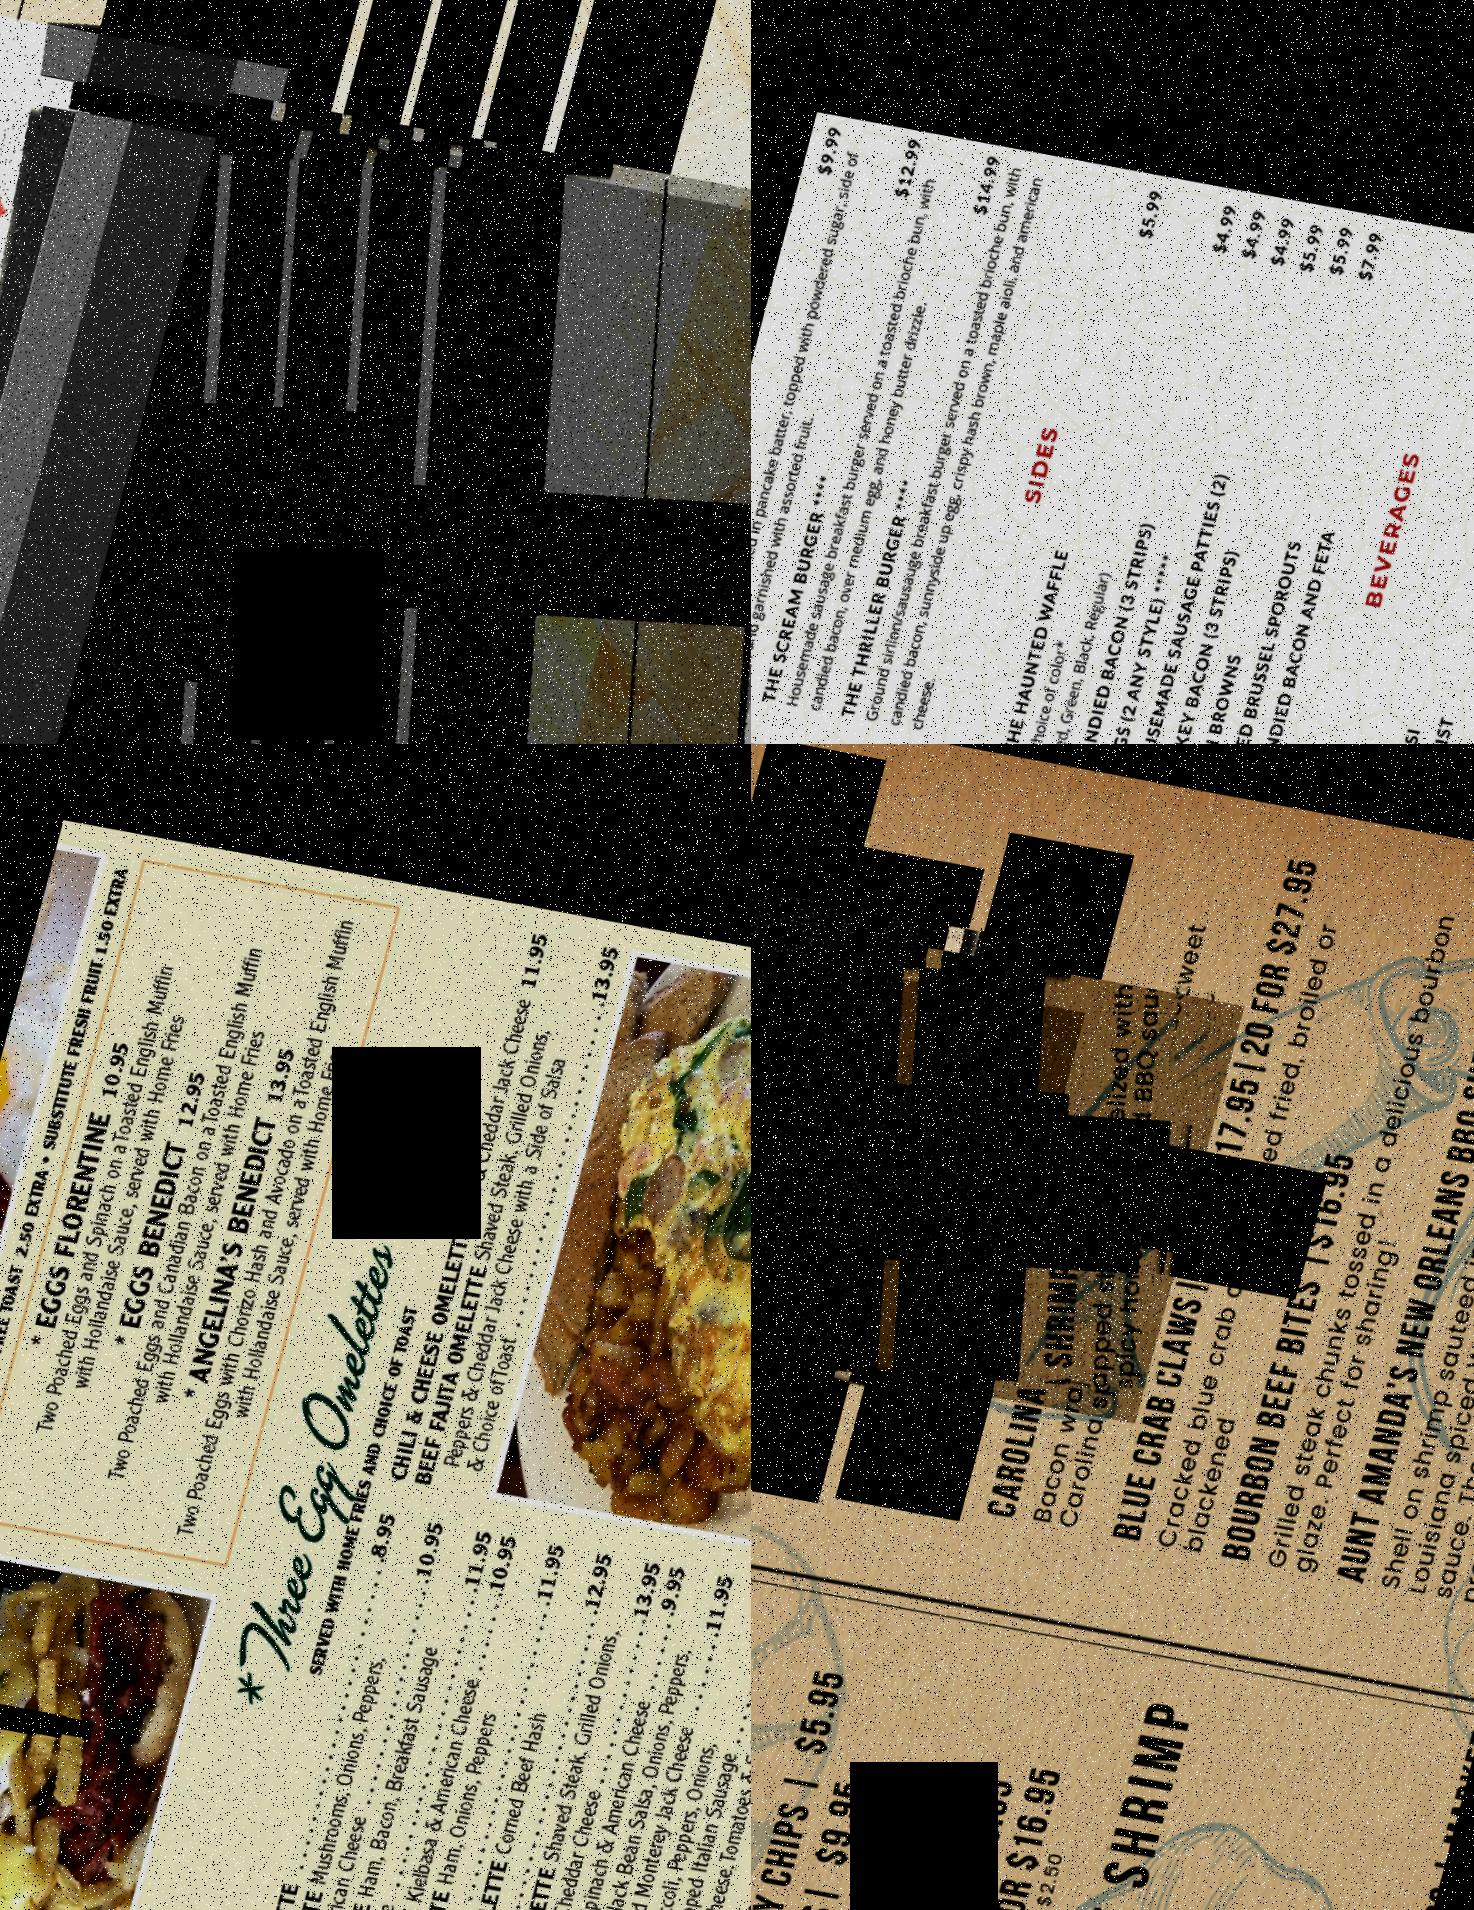Menu-Items: (0, 83, 751, 744), (0, 97, 751, 744), (31, 80, 751, 744), (0, 86, 722, 744), (0, 32, 666, 744), (751, 924, 1253, 1439), (0, 0, 301, 744), (1107, 845, 1395, 1575), (0, 0, 265, 744), (1217, 895, 1474, 1599), (980, 907, 1253, 1558), (751, 934, 1094, 1422), (149, 898, 398, 1554), (0, 849, 140, 1910), (843, 143, 1075, 740), (751, 850, 1003, 1367), (994, 171, 1219, 744), (766, 130, 978, 722), (89, 919, 304, 1484), (425, 932, 631, 1504), (1324, 863, 1474, 1642), (5, 950, 214, 1473), (389, 927, 557, 1487), (1081, 193, 1249, 744), (265, 1473, 470, 1910), (1112, 199, 1276, 744), (1141, 210, 1307, 744), (1170, 214, 1336, 744), (1197, 221, 1363, 744), (751, 114, 898, 704), (1228, 224, 1391, 744), (996, 1676, 1337, 1910), (392, 1512, 590, 1910), (319, 1506, 507, 1910), (488, 1532, 682, 1910), (442, 1530, 633, 1910), (236, 1506, 409, 1910), (362, 1525, 533, 1910), (562, 1564, 751, 1910), (539, 1557, 704, 1910), (1196, 1706, 1474, 1910), (607, 1573, 751, 1910), (751, 1643, 878, 1910), (656, 1590, 751, 1910), (920, 1758, 1086, 1910), (875, 1771, 1036, 1910), (1258, 508, 1351, 744), (751, 1768, 894, 1910), (823, 1798, 978, 1910), (780, 1799, 935, 1910), (0, 1533, 21, 1857)
